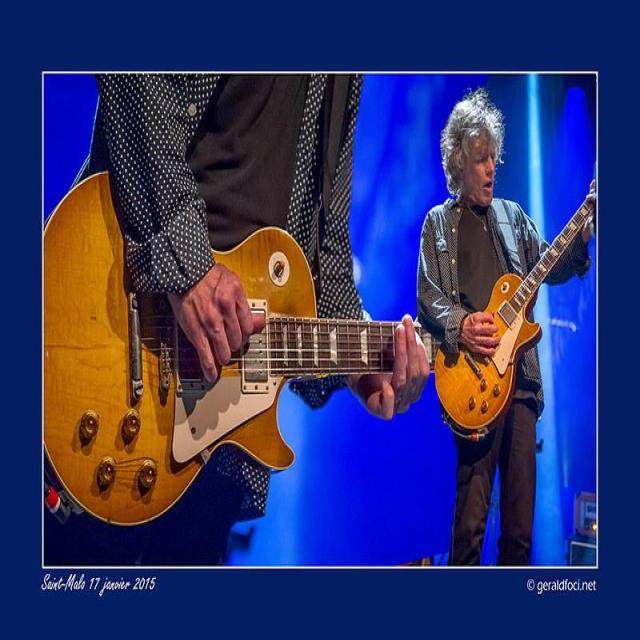guitar: (44, 174, 395, 524), (436, 201, 593, 438)
